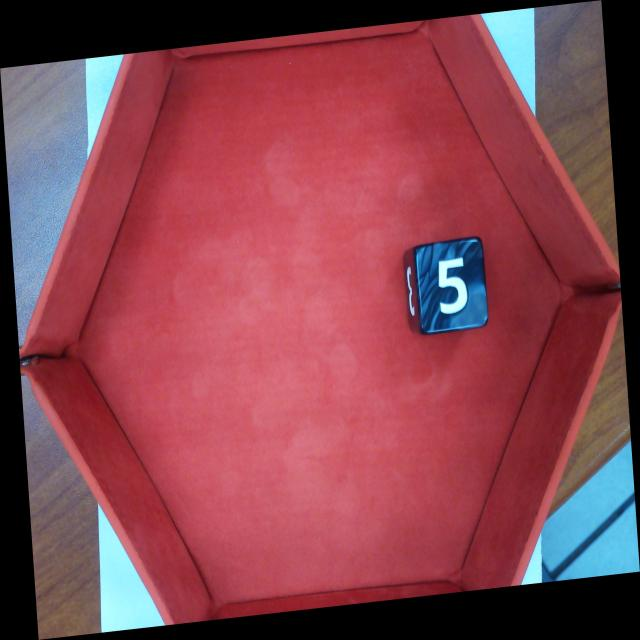dice: (417, 232, 493, 328)
